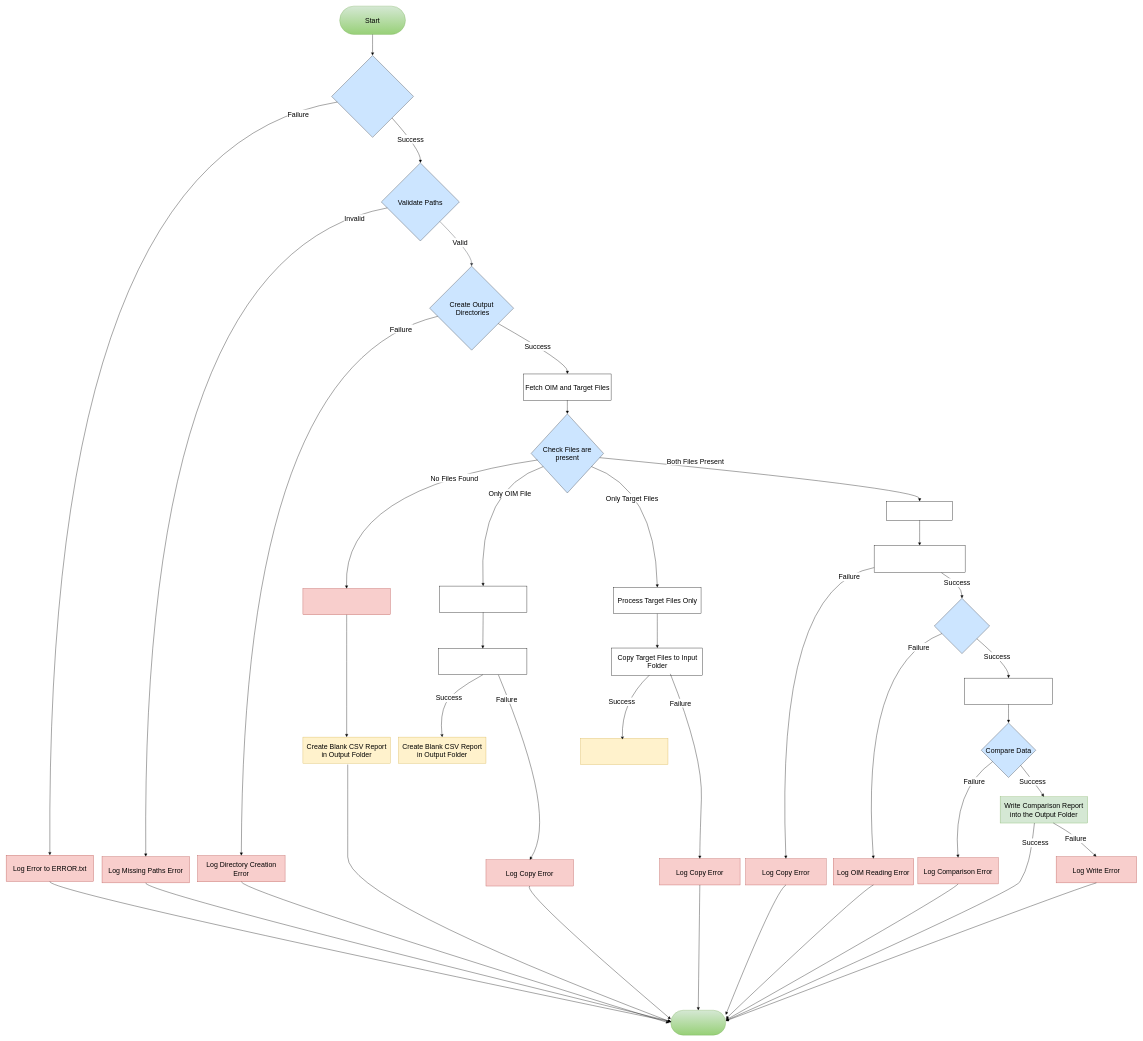
This 1143x1041 diagram has some shape labels left out. The centre of each missing label's shape, as x and y in pixels:
"Copy All Files to Input Folder" goes at point (919, 559).
"Copy OIM to Input Folder" goes at point (482, 661).
"Create Target-only Report in Output Folder" goes at point (624, 751).
"End" goes at point (698, 1022).
"Load FilePaths.txt file" goes at point (372, 96).
"Log No Files Error" goes at point (346, 601).
"Process Both Files" goes at point (919, 510).
"Process OIM File Only" goes at point (483, 599).
"Process Target Files" goes at point (1008, 691).
"Read OIM Data" goes at point (962, 626).
